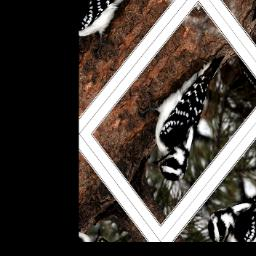Woodpecker: (126, 27, 254, 190)
